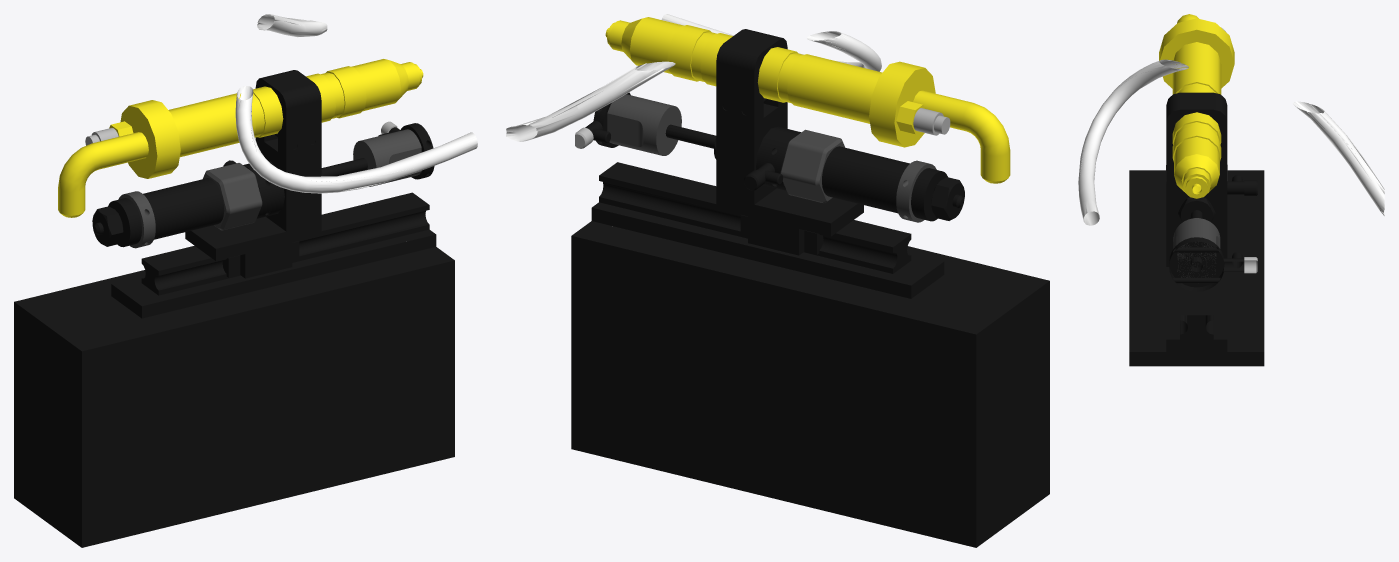
The model's file is Cube10_PinInsertionStation.glb.
The picture shows the model from 3 angles, left to right: view 1: azimuth 30°, elevation 25°; view 2: azimuth 150°, elevation 25°; view 3: azimuth 270°, elevation 25°; orthographic projection. The views are drawn at different scales.
Visible parts, largest first — view 1: color-25; view 2: color-25; view 3: color-25.
Boxes of the visible parts, x1=… form: color-25: x1=14, y1=14, x2=477, y2=547; color-25: x1=506, y1=14, x2=1049, y2=547; color-25: x1=1078, y1=14, x2=1384, y2=366.
Bounding box in the file's own units: 0.3178 × 0.32 × 0.2264.
